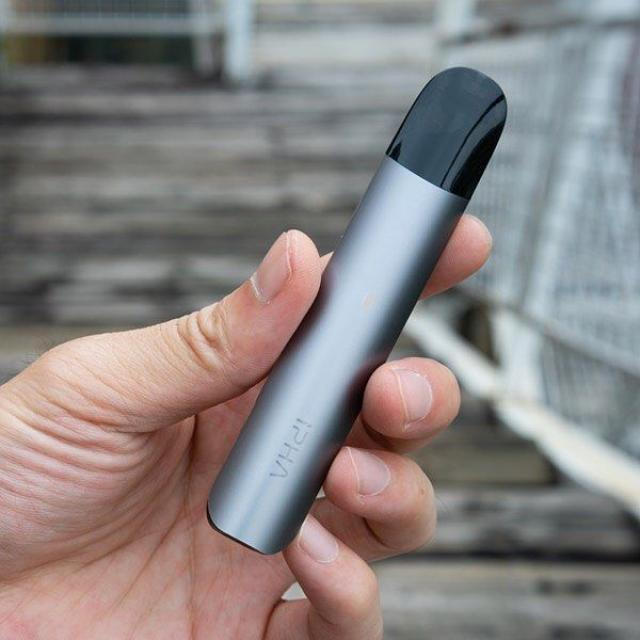Hazard: (203, 64, 512, 556)
